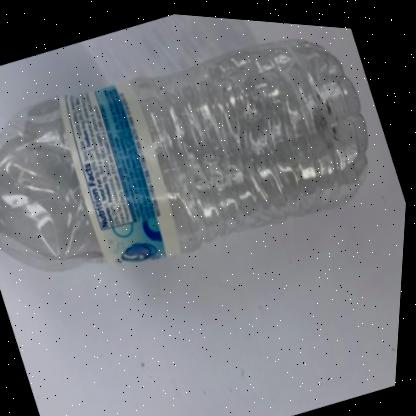Plastic: (0, 33, 368, 269)
